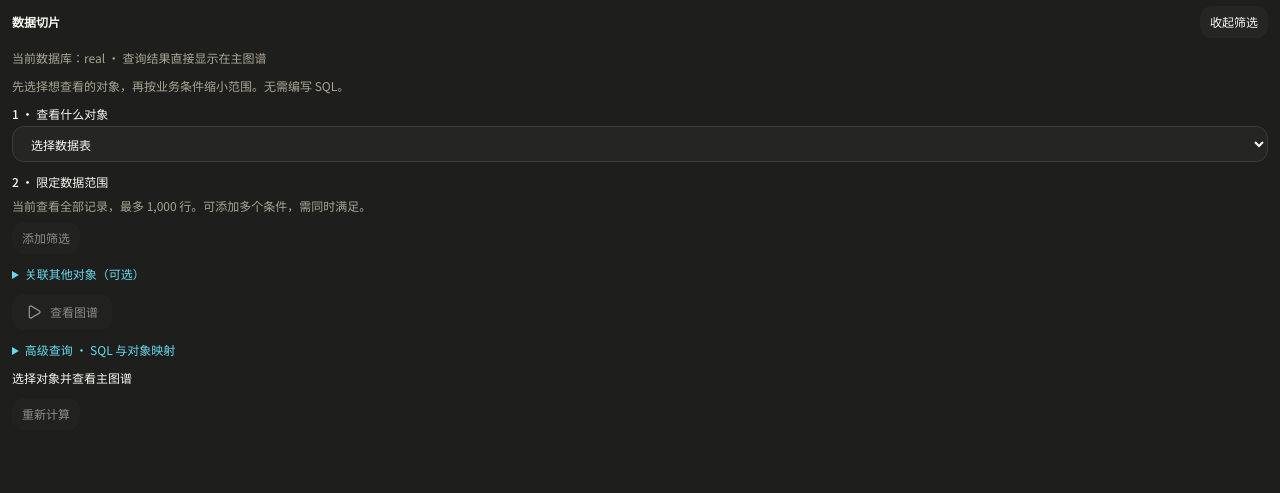
Test: clears SQL and projection on database switch and recalculates on actual data-change notifications
Select "main.payments" in the dropdown named "切片来源表" at (640, 144), box [12,126,1268,162]
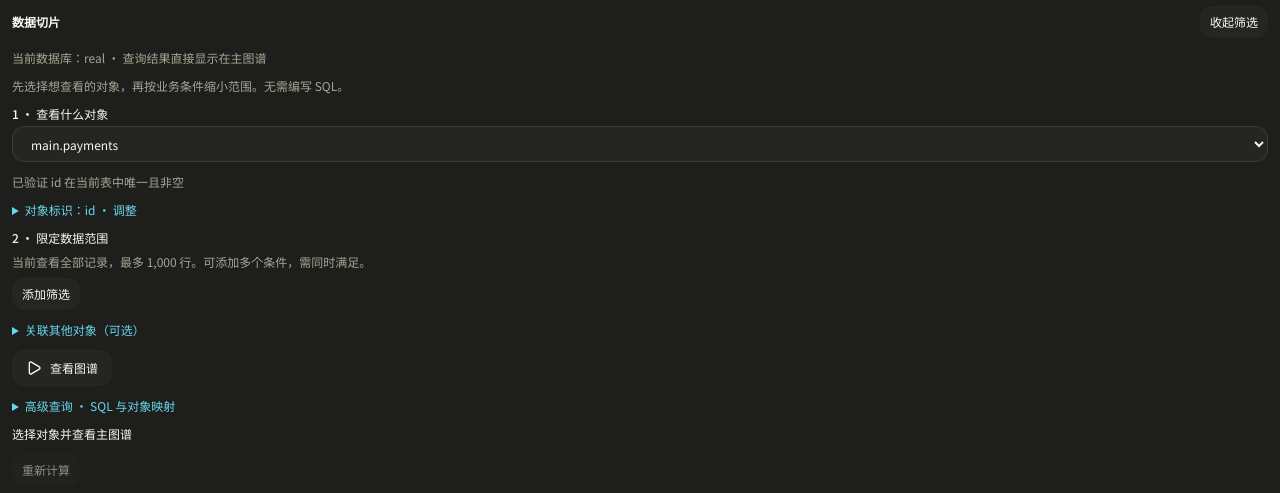
Click the button "查看图谱" at (62, 368), box [12,350,112,386]
Wait 902 ms
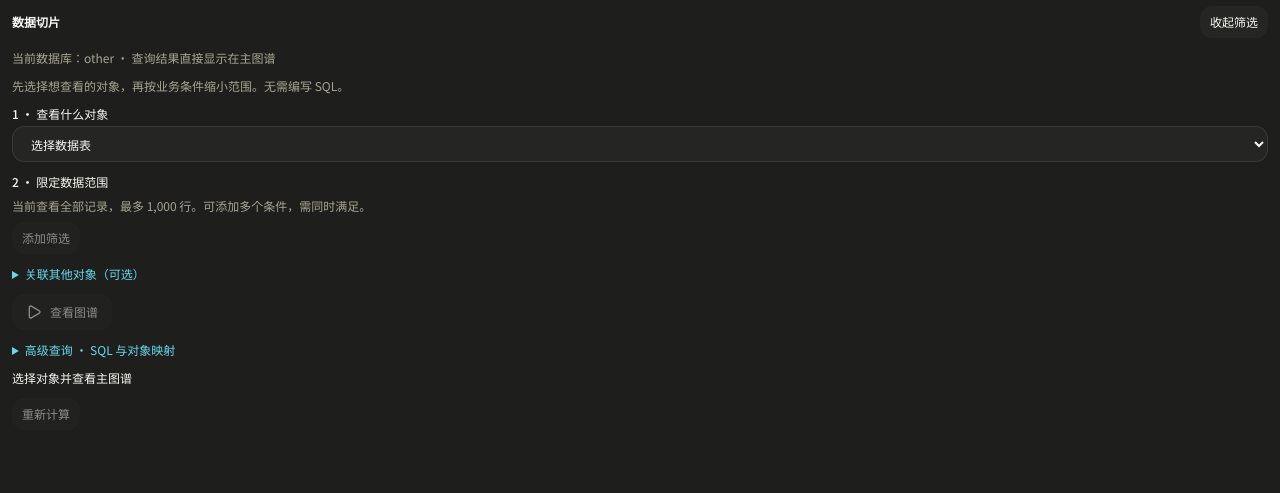
expect the text "当前数据库：other · 查询结果直接显示在主图谱" is shown: met, box [12,49,276,66]
